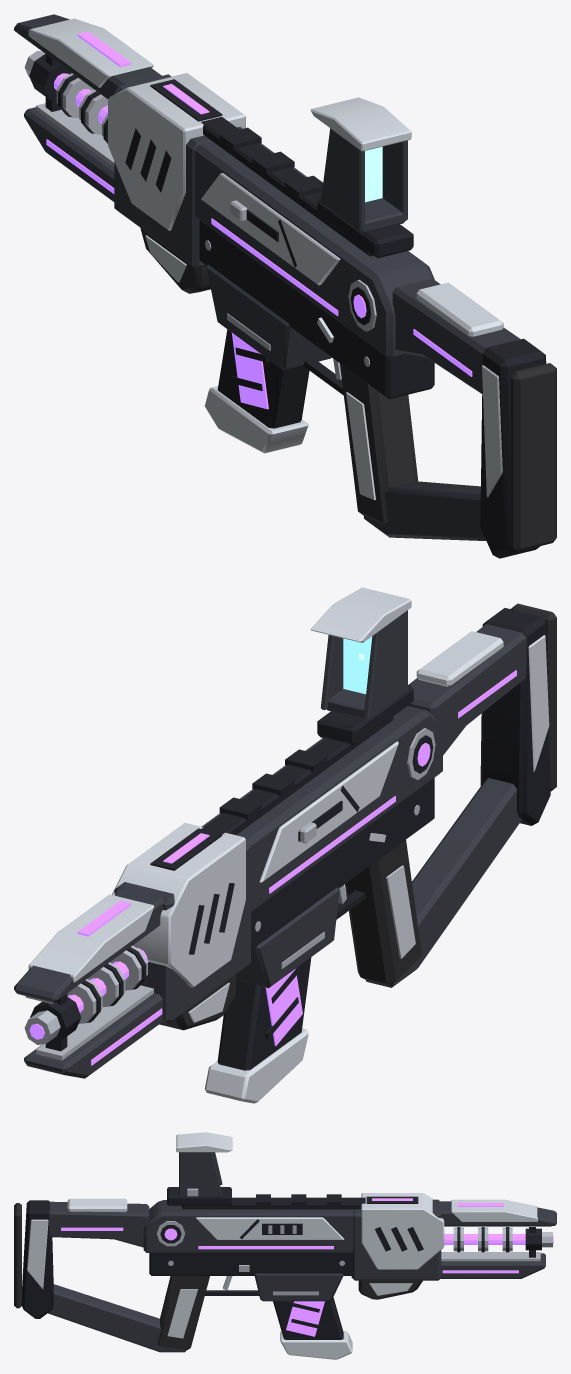
Rendered from VortexBR.glb.
The picture shows the model from 3 angles, top to bottom: view 1: azimuth 30°, elevation 25°; view 2: azimuth 150°, elevation 25°; view 3: azimuth 270°, elevation 25°; orthographic projection. The views are drawn at different scales.
Visible parts, largest first — view 1: Body, Shroud, Lower, ButtPad, Grip, StockStrut, StockSpine, StockButt, CellWell, ArmorPlate, ProngArmor, Fore (+23 smaller); view 2: Shroud, Body, StockStrut, StockButt, Lower, Grip, StockSpine, ProngArmor, ArmorPlate, Cell, CellWell, Fore (+27 smaller); view 3: Body, Shroud, Lower, StockStrut, StockSpine, ArmorPlate, StockButt, Fore, CellWell, Grip, SightWall1, LowerProng (+23 smaller).
Part boxes in pixels (bbox=[...]): Body: bbox=[195, 141, 434, 359]; Shroud: bbox=[108, 73, 245, 230]; Lower: bbox=[199, 220, 434, 399]; ButtPad: bbox=[510, 363, 556, 551]; Grip: bbox=[340, 363, 418, 525]; StockStrut: bbox=[364, 481, 486, 540]; StockSpine: bbox=[392, 278, 520, 393]; StockButt: bbox=[480, 338, 546, 558]; CellWell: bbox=[206, 264, 331, 369]; ArmorPlate: bbox=[201, 173, 340, 285]; ProngArmor: bbox=[28, 18, 153, 87]; Fore: bbox=[114, 74, 242, 268]; Shroud: bbox=[112, 823, 245, 987]; Body: bbox=[201, 706, 442, 911]; StockStrut: bbox=[366, 778, 521, 987]; StockButt: bbox=[480, 608, 550, 825]; Lower: bbox=[251, 778, 434, 952]; Grip: bbox=[345, 840, 421, 985]; StockSpine: bbox=[408, 624, 526, 755]; ProngArmor: bbox=[28, 894, 153, 982]; ArmorPlate: bbox=[259, 741, 398, 882]; Cell: bbox=[217, 957, 311, 1070]; CellWell: bbox=[236, 887, 339, 988]; Fore: bbox=[114, 841, 250, 1023]; Body: bbox=[143, 1200, 353, 1252]; Shroud: bbox=[361, 1193, 444, 1269]; Lower: bbox=[149, 1253, 351, 1275]; StockStrut: bbox=[48, 1284, 185, 1352]; StockSpine: bbox=[49, 1201, 149, 1247]; ArmorPlate: bbox=[196, 1217, 344, 1239]; StockButt: bbox=[21, 1200, 53, 1318]; Fore: bbox=[351, 1199, 441, 1280]; CellWell: bbox=[254, 1273, 343, 1301]; Grip: bbox=[157, 1276, 209, 1350]; SightWall1: bbox=[179, 1152, 222, 1196]; LowerProng: bbox=[440, 1253, 545, 1278].
Size of the model in its own units: 0.328 by 1.76 by 4.
